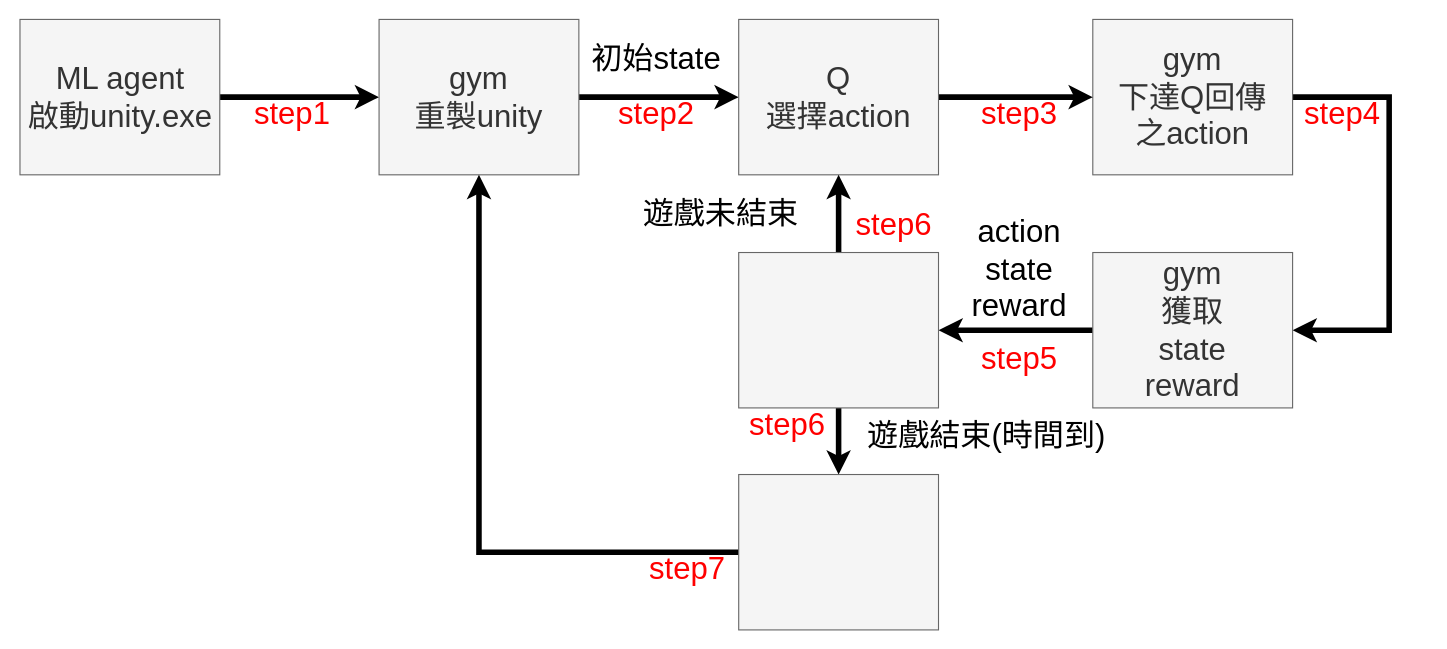
Image size: 1447x649. Some labels were removed from this diagram. The shapes that lost their labels are listed below. From the top down, each one's centre as x and y in pixels, then its label:
point 838,329: Q學習
point 838,551: 學習結束
